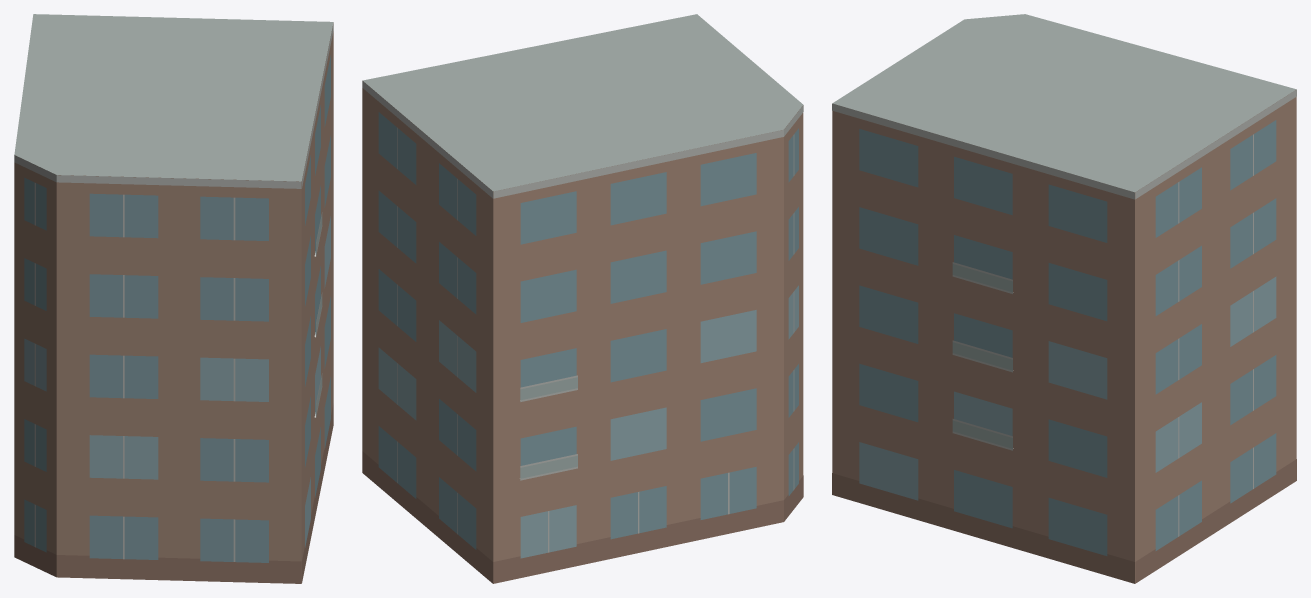
The model's file is survey-upis-32744715.glb.
The picture shows the model from 3 angles, left to right: view 1: azimuth 30°, elevation 25°; view 2: azimuth 150°, elevation 25°; view 3: azimuth 270°, elevation 25°; orthographic projection. The views are drawn at different scales.
Visible parts, largest first — view 1: survey-upis-32744715.tmp; view 2: survey-upis-32744715.tmp; view 3: survey-upis-32744715.tmp.
Part boxes in pixels (bbox=[...]): survey-upis-32744715.tmp: bbox=[14, 14, 333, 583]; survey-upis-32744715.tmp: bbox=[362, 14, 803, 583]; survey-upis-32744715.tmp: bbox=[832, 14, 1296, 583].
Size of the model in its own units: 12.91 by 13.2 by 14.21.
